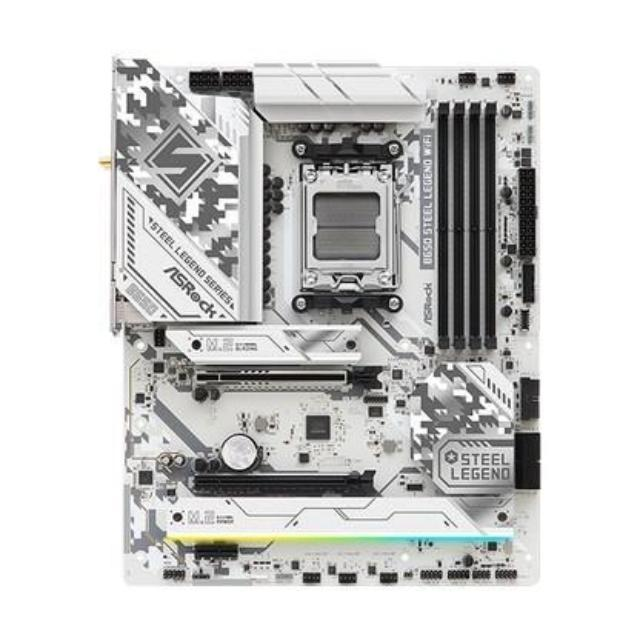Mainboard: (100, 49, 546, 598)
